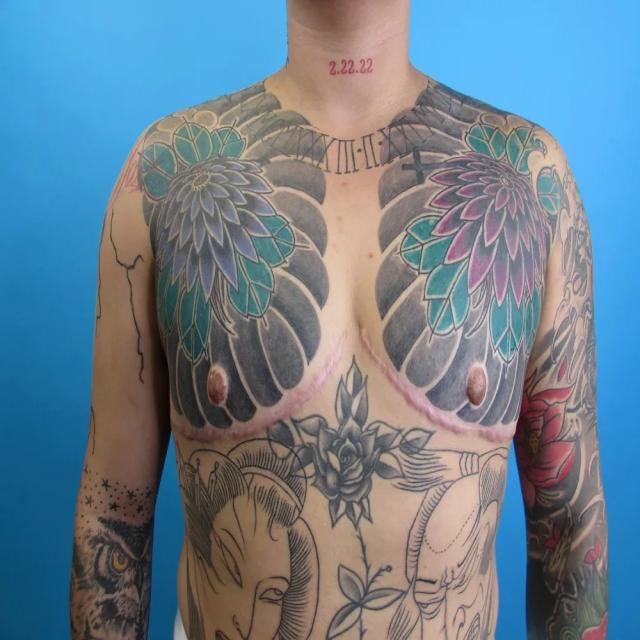Seno herido: (161, 309, 349, 456), (355, 309, 527, 452)
